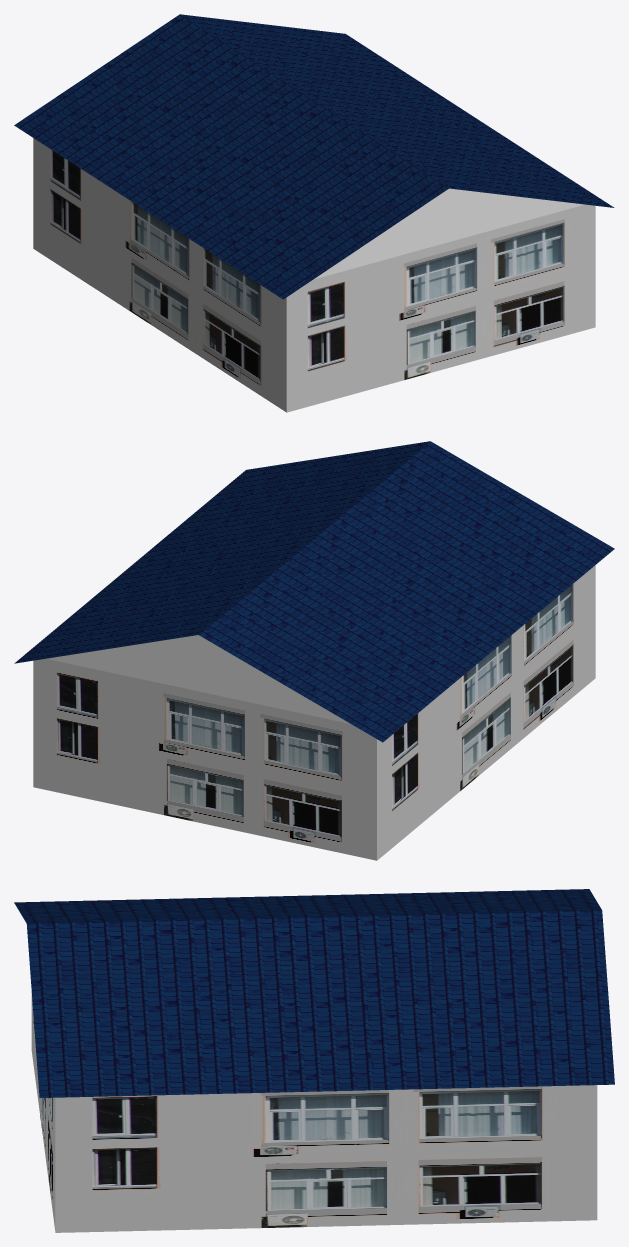
3 renders of one model, top to bottom at view 1: azimuth 30°, elevation 25°; view 2: azimuth 150°, elevation 25°; view 3: azimuth 270°, elevation 25°, orthographic. The views are drawn at different scales.
Visible parts, largest first — view 1: CityEngineMaterial_6_m, CityEngineMaterial_9_m, CityEngineMaterial_3_m; view 2: CityEngineMaterial_6_m, CityEngineMaterial_9_m, CityEngineMaterial_3_m; view 3: CityEngineMaterial_6_m, CityEngineMaterial_9_m.
Part boxes in pixels (x1,y1,x2,y2): CityEngineMaterial_6_m: (14, 14, 614, 299); CityEngineMaterial_9_m: (33, 138, 595, 412); CityEngineMaterial_3_m: (313, 188, 584, 279); CityEngineMaterial_6_m: (14, 441, 614, 742); CityEngineMaterial_9_m: (33, 565, 595, 860); CityEngineMaterial_3_m: (46, 635, 350, 723); CityEngineMaterial_6_m: (14, 889, 614, 1097); CityEngineMaterial_9_m: (31, 993, 597, 1232).
Size of the model in its own units: 29.37 by 14.31 by 35.68.
